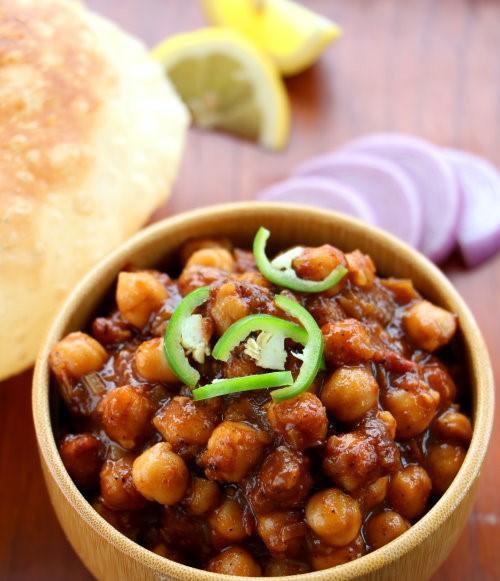Bhatura: (0, 0, 191, 378)
Chole: (51, 228, 472, 577)
